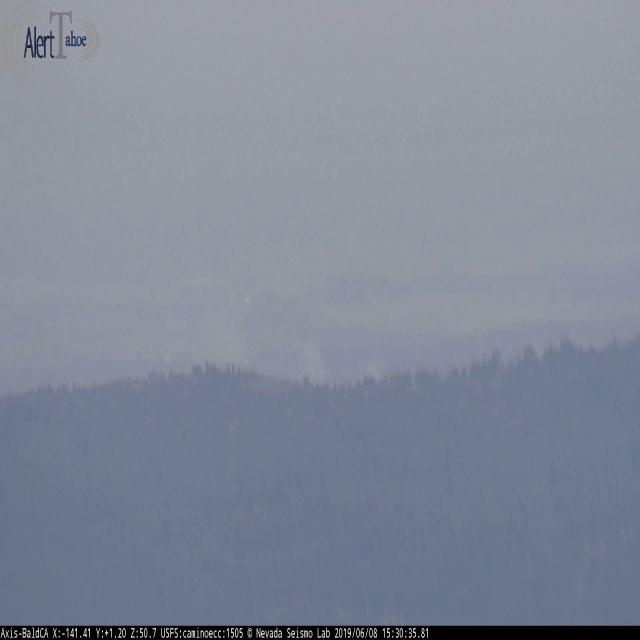smoke: (166, 301, 369, 396)
